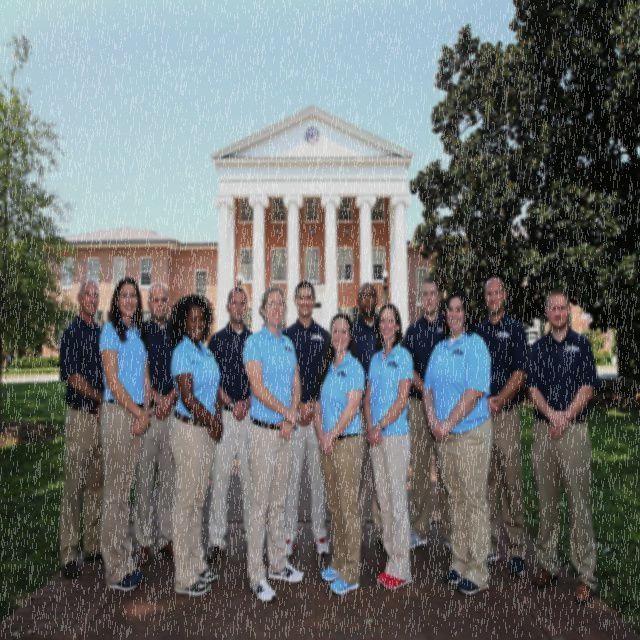pessoa: (522, 285, 602, 605), (420, 288, 494, 596), (239, 282, 308, 604), (468, 273, 530, 577), (166, 289, 226, 597), (95, 276, 152, 594), (360, 296, 417, 593), (128, 280, 187, 565), (310, 309, 368, 597), (280, 278, 338, 560), (56, 274, 108, 582), (206, 285, 256, 565), (403, 276, 453, 552), (351, 279, 384, 546)
